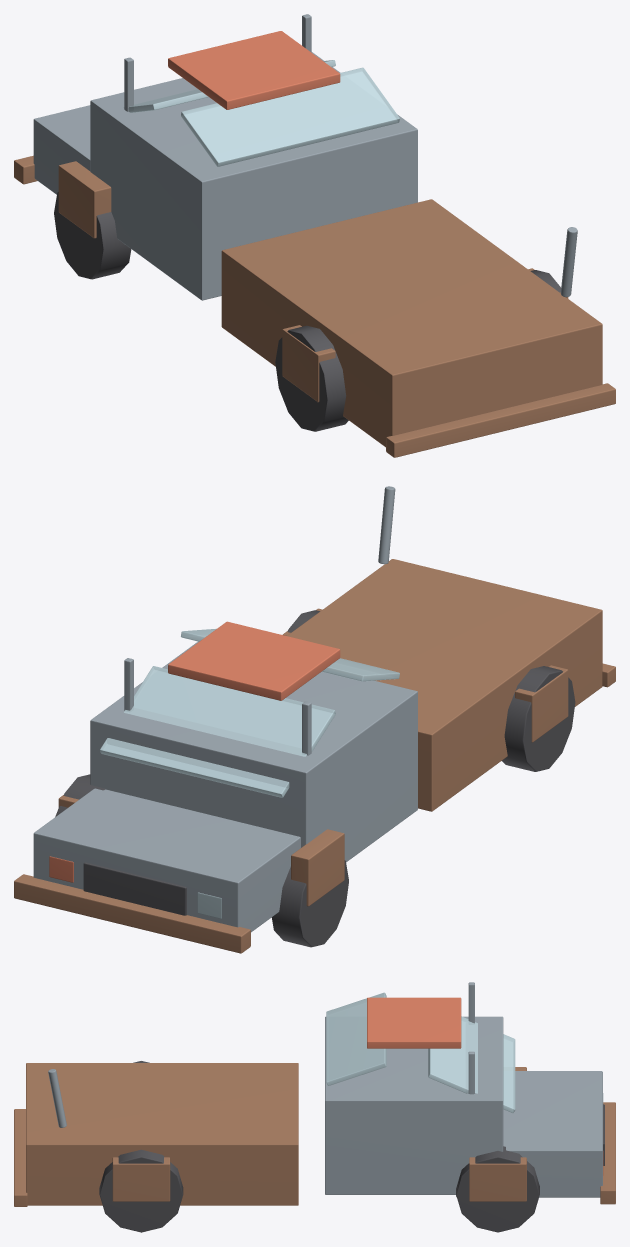
File: truck_wreck.glb
3 renders of one model, top to bottom at view 1: azimuth 30°, elevation 25°; view 2: azimuth 150°, elevation 25°; view 3: azimuth 270°, elevation 25°, orthographic. The views are drawn at different scales.
Parts seen in each view (by area): view 1: truck_wreck; view 2: truck_wreck; view 3: truck_wreck.
Boxes of the visible parts, bbox=[...] form: truck_wreck: bbox=[14, 14, 615, 457]; truck_wreck: bbox=[14, 486, 615, 953]; truck_wreck: bbox=[14, 982, 615, 1232].
Bounding box in the file's own units: 2.2 × 1.86 × 5.74.
